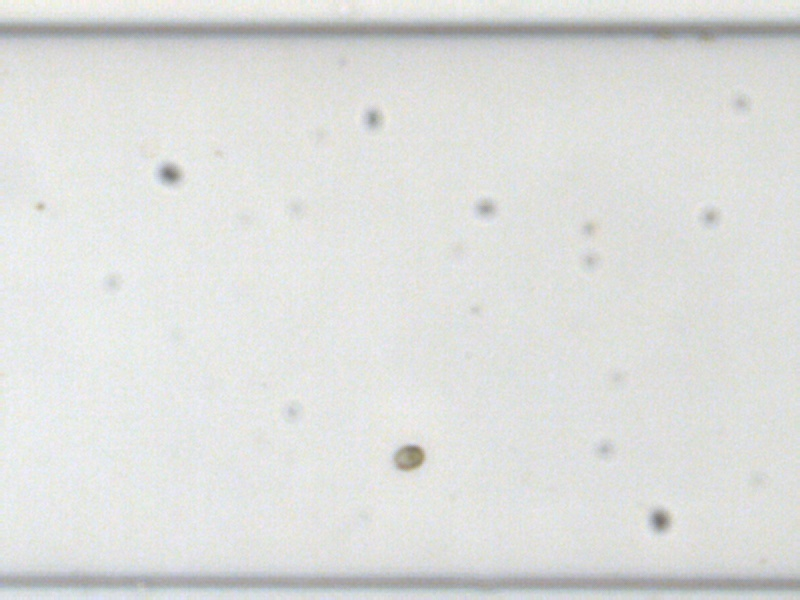Chlorella: (32, 199, 46, 212)
Dunaliella salina: (390, 443, 425, 470)
